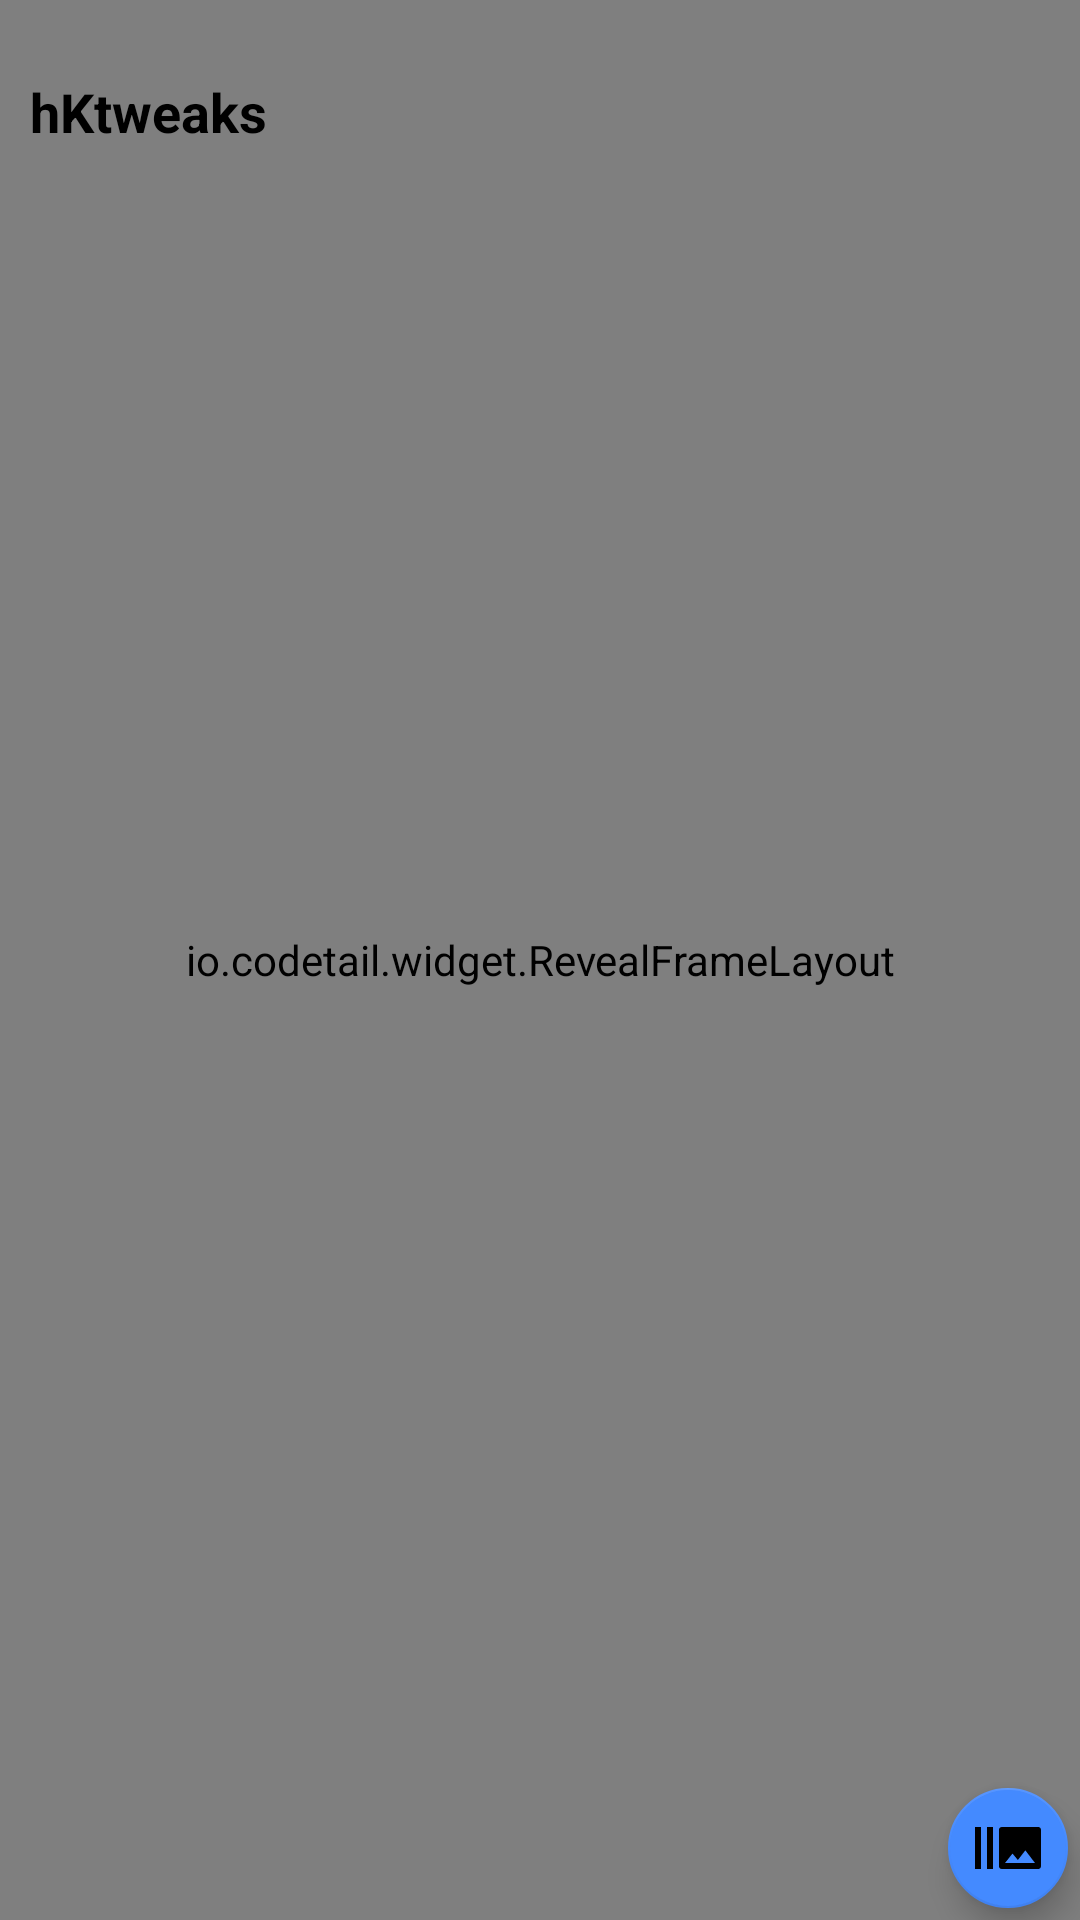

Icons on this 1080px×1920px Android screen, each with the point to tap as [x,y]:
gallery: [1008,1848]
